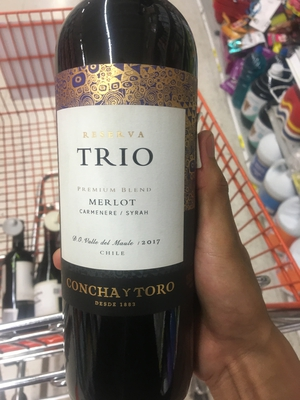trio merlot: (45, 8, 206, 400)
